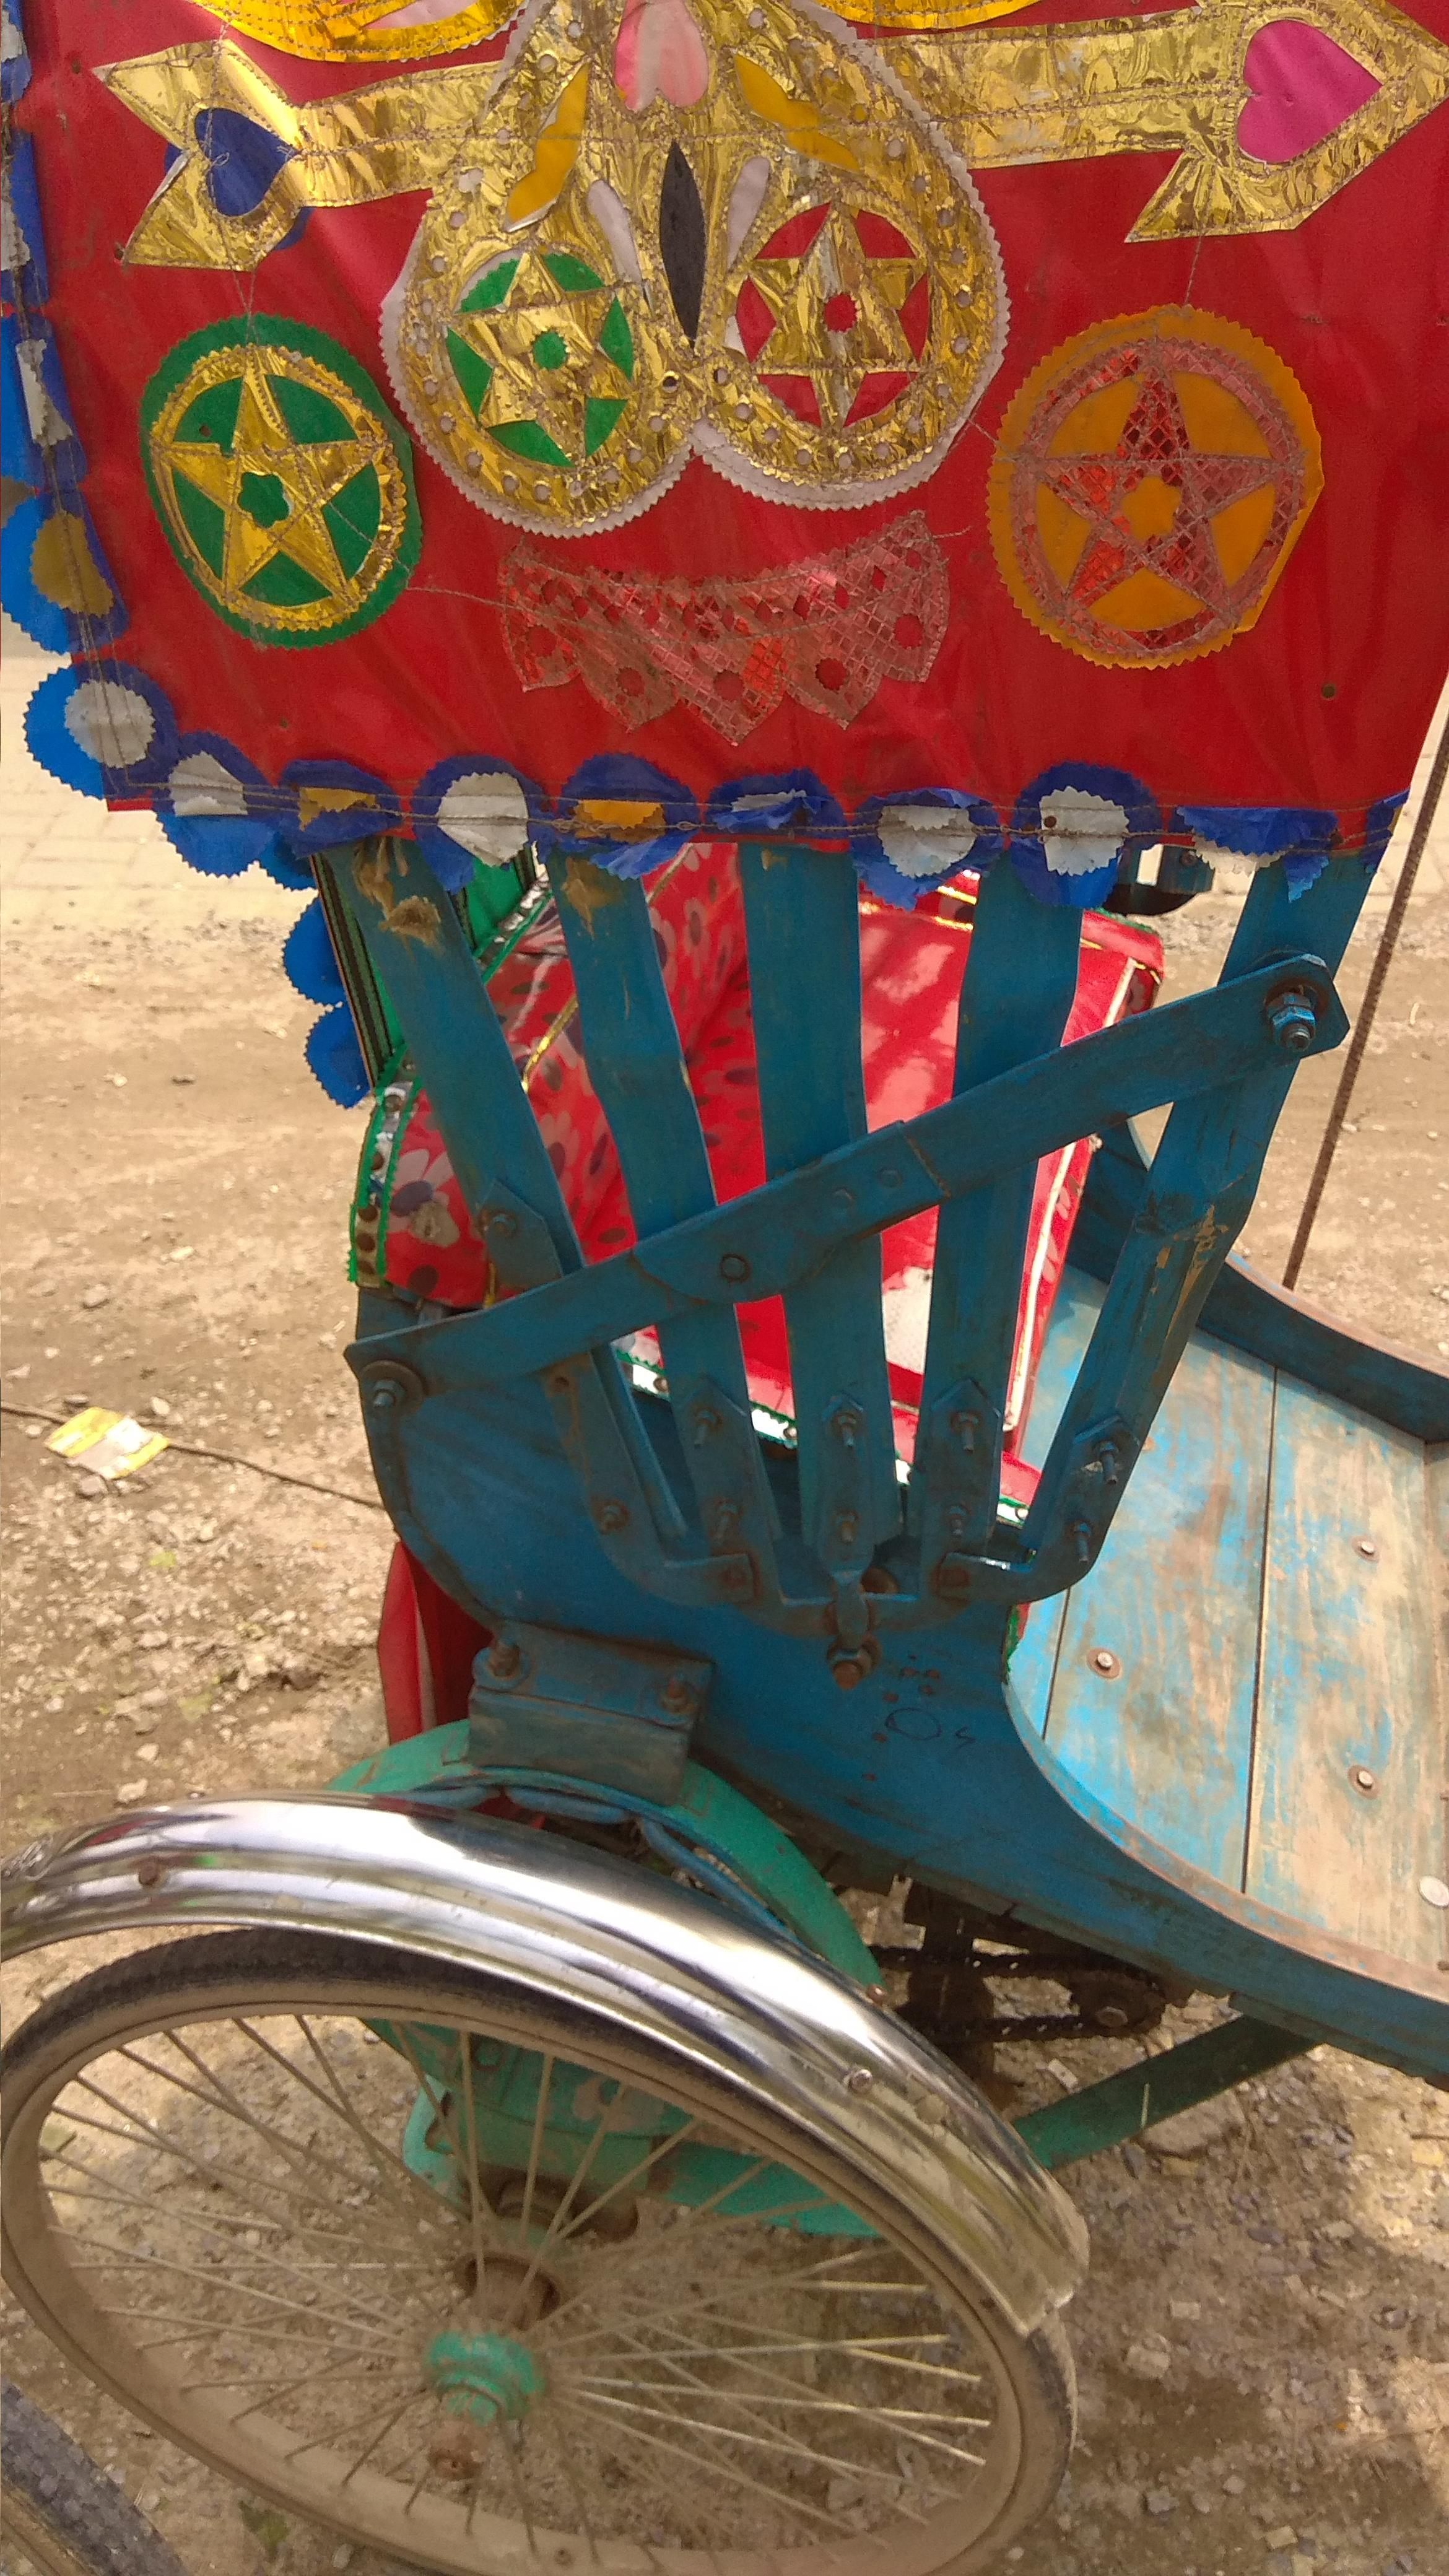Rickshaw: (9, 14, 1431, 2569)
